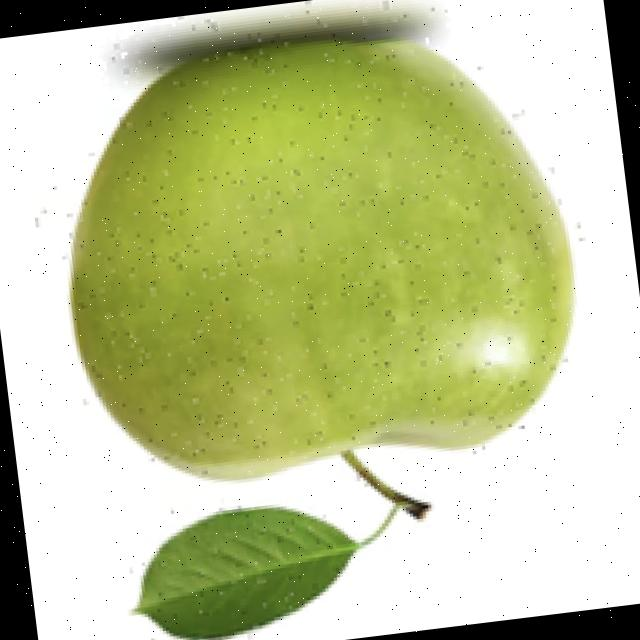apple: (61, 0, 579, 640)
